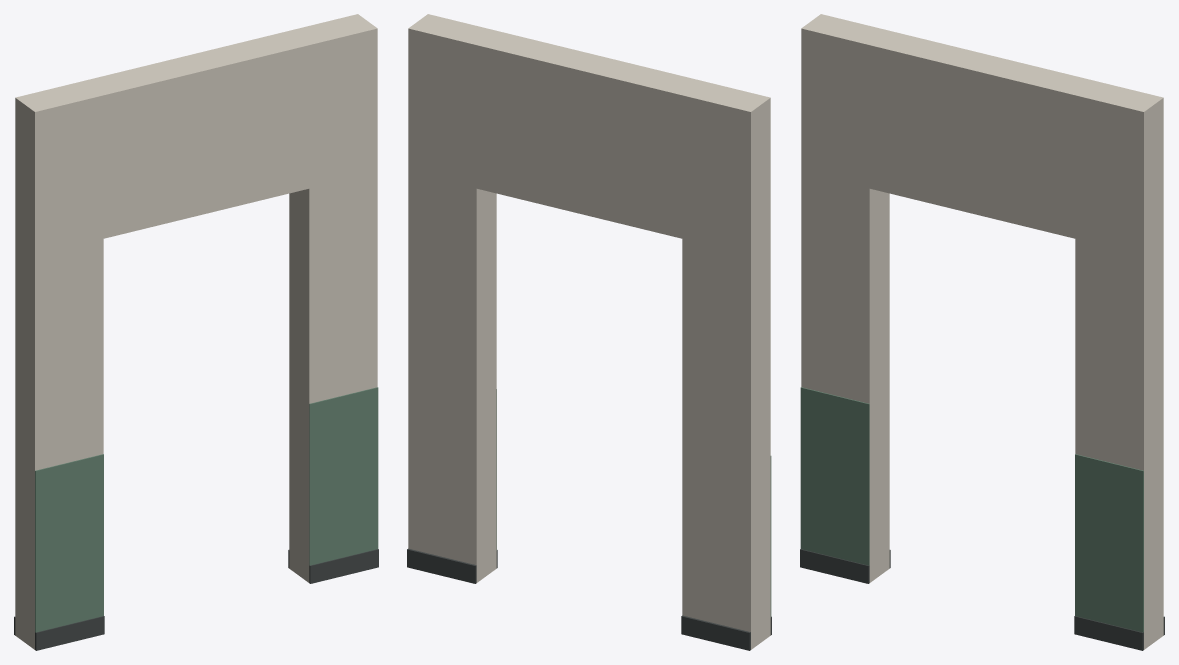
File: MOD_Wall_2m_Door1200.glb
3 renders of one model, left to right at view 1: azimuth 30°, elevation 25°; view 2: azimuth 150°, elevation 25°; view 3: azimuth 330°, elevation 25°, orthographic.
Parts seen in each view (by area): view 1: MOD_Wall_2m_Door1200_Mesh; view 2: MOD_Wall_2m_Door1200_Mesh; view 3: MOD_Wall_2m_Door1200_Mesh.
Part boxes in pixels (left/top/right/bottom): MOD_Wall_2m_Door1200_Mesh: left=14, top=14, right=378, bottom=650; MOD_Wall_2m_Door1200_Mesh: left=407, top=14, right=771, bottom=650; MOD_Wall_2m_Door1200_Mesh: left=800, top=14, right=1164, bottom=650.
Size of what is drawn, in the model's own units: 2 by 3 by 0.224.
